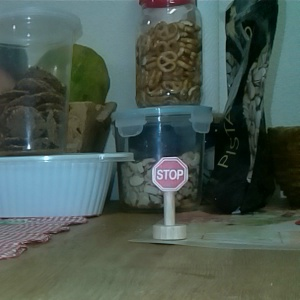stop sign: (149, 155, 190, 241)
